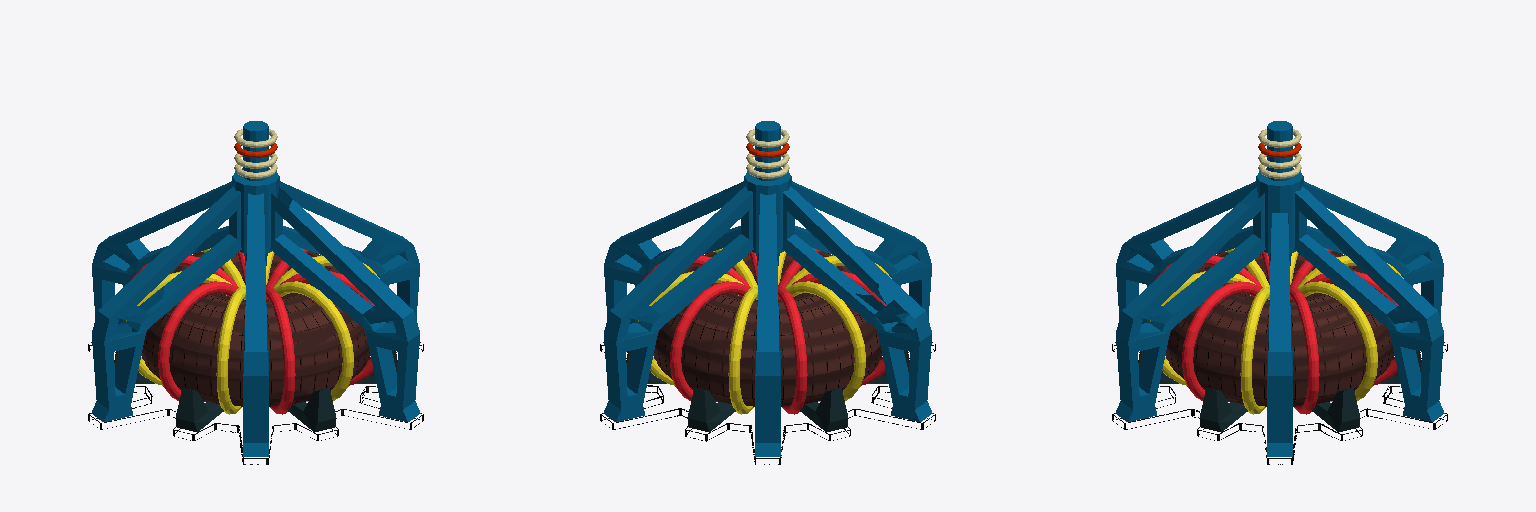
The picture shows the model from 3 angles: view 1: azimuth 30°, elevation 25°; view 2: azimuth 150°, elevation 25°; view 3: azimuth 270°, elevation 25°; orthographic projection.
Visible parts, largest first — view 1: BigLegs_Cube.002, BigCoil_Torus, CoilRings_Torus.021, LowerLegs_Cube.008, Pole_Cylinder.003, TopRings_Torus.001, Foundation_Cylinder.001; view 2: BigLegs_Cube.002, BigCoil_Torus, CoilRings_Torus.021, LowerLegs_Cube.008, Pole_Cylinder.003, TopRings_Torus.001, Foundation_Cylinder.001; view 3: BigLegs_Cube.002, BigCoil_Torus, CoilRings_Torus.021, LowerLegs_Cube.008, Pole_Cylinder.003, TopRings_Torus.001, Foundation_Cylinder.001.
Boxes of the visible parts, box(x1,y1,x2,y2) form: BigLegs_Cube.002: box(91, 181, 420, 456); BigCoil_Torus: box(141, 252, 370, 406); CoilRings_Torus.021: box(126, 248, 379, 414); LowerLegs_Cube.008: box(114, 350, 397, 432); Pole_Cylinder.003: box(232, 121, 279, 265); TopRings_Torus.001: box(234, 129, 277, 178); Foundation_Cylinder.001: box(88, 342, 423, 464); BigLegs_Cube.002: box(603, 181, 932, 456); BigCoil_Torus: box(653, 252, 882, 406); CoilRings_Torus.021: box(638, 248, 891, 414); LowerLegs_Cube.008: box(626, 350, 909, 432); Pole_Cylinder.003: box(744, 121, 791, 265); TopRings_Torus.001: box(746, 129, 789, 178); Foundation_Cylinder.001: box(600, 342, 935, 464); BigLegs_Cube.002: box(1115, 181, 1444, 456); BigCoil_Torus: box(1165, 252, 1394, 406); CoilRings_Torus.021: box(1150, 248, 1403, 414); LowerLegs_Cube.008: box(1138, 350, 1421, 432); Pole_Cylinder.003: box(1256, 121, 1303, 265); TopRings_Torus.001: box(1258, 129, 1301, 178); Foundation_Cylinder.001: box(1112, 342, 1447, 464).
Bounding box in the file's own units: 29.59 × 22.77 × 26.62.
Materials: 6 (6 with a texture image).